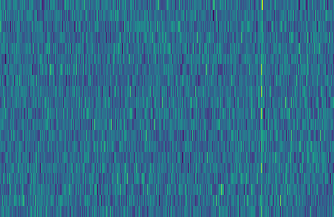signal: (258, 0, 268, 217)
